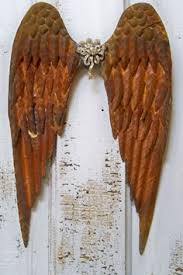rust: (124, 13, 166, 218), (17, 11, 54, 230)
